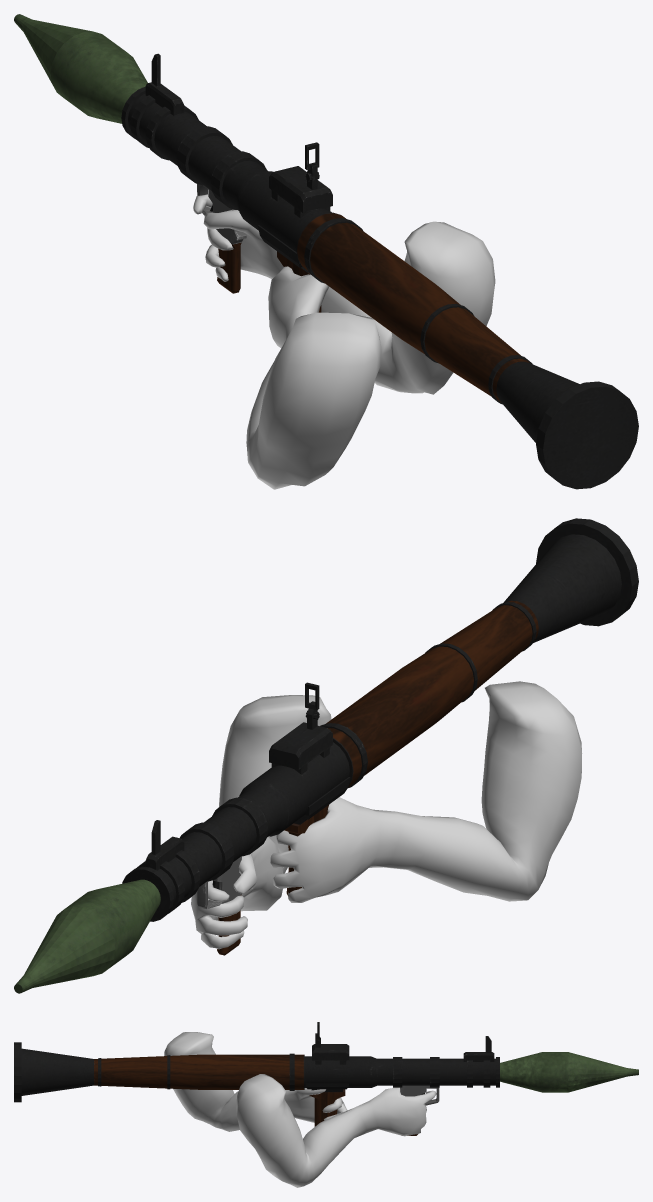
Rendered from Rocketlauncher.fbx.
3 renders of one model, top to bottom at view 1: azimuth 30°, elevation 25°; view 2: azimuth 150°, elevation 25°; view 3: azimuth 270°, elevation 25°, orthographic. The views are drawn at different scales.
Visible parts, largest first — view 1: Rocketbody1, Rockethead; view 2: Rocketbody1, Rockethead; view 3: Rocketbody1, Rockethead.
Part boxes in pixels (bbox=[...]): Rocketbody1: bbox=[121, 53, 638, 489]; Rockethead: bbox=[14, 14, 147, 123]; Rocketbody1: bbox=[122, 518, 638, 955]; Rockethead: bbox=[14, 879, 160, 993]; Rocketbody1: bbox=[14, 1022, 499, 1187]; Rockethead: bbox=[500, 1052, 638, 1092].
Bounding box in the file's own units: 19.09 × 16.6 × 67.11.
